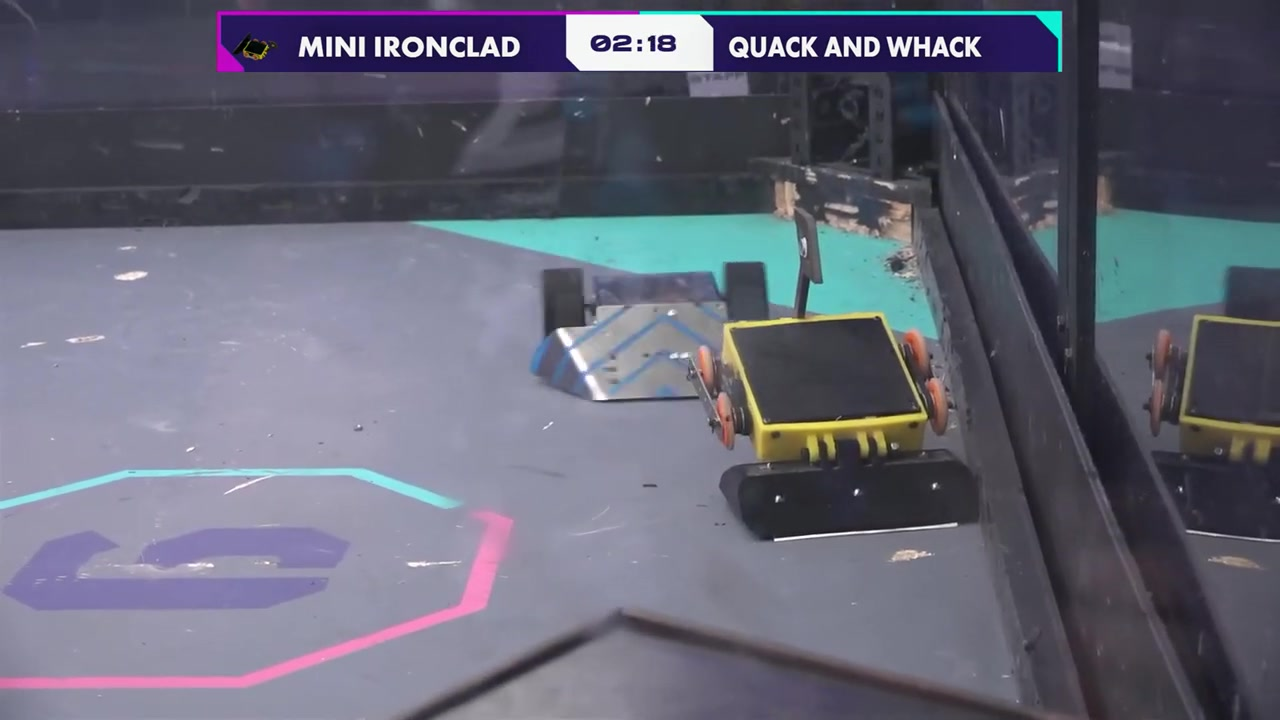combatbot: (687, 202, 986, 545), (533, 257, 771, 409)
